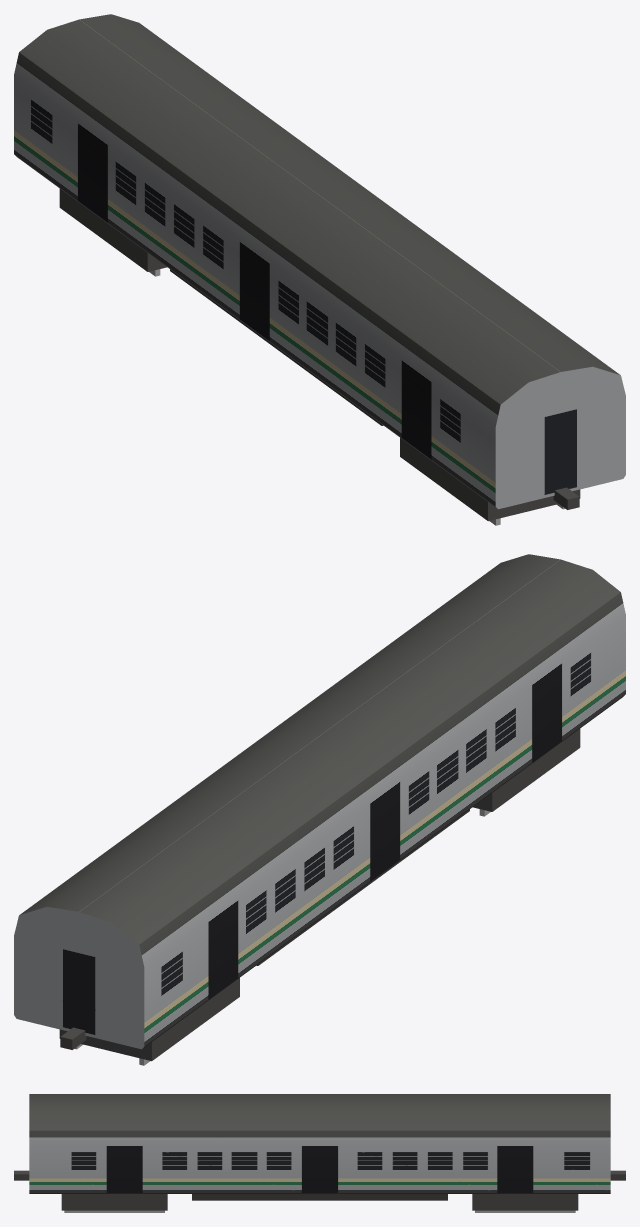
File: emu_trailer_lod1.glb
3 renders of one model, top to bottom at view 1: azimuth 30°, elevation 25°; view 2: azimuth 150°, elevation 25°; view 3: azimuth 270°, elevation 25°, orthographic. The views are drawn at different scales.
Visible parts, largest first — view 1: body; view 2: body; view 3: body.
Boxes of the visible parts, box(x1,y1,x2,y2) form: body: box(14, 14, 625, 525); body: box(14, 554, 625, 1065); body: box(14, 1094, 625, 1212).
Bounding box in the file's own units: 3.25 × 3.96 × 21.9.
Materials: 2 (2 with a texture image).
